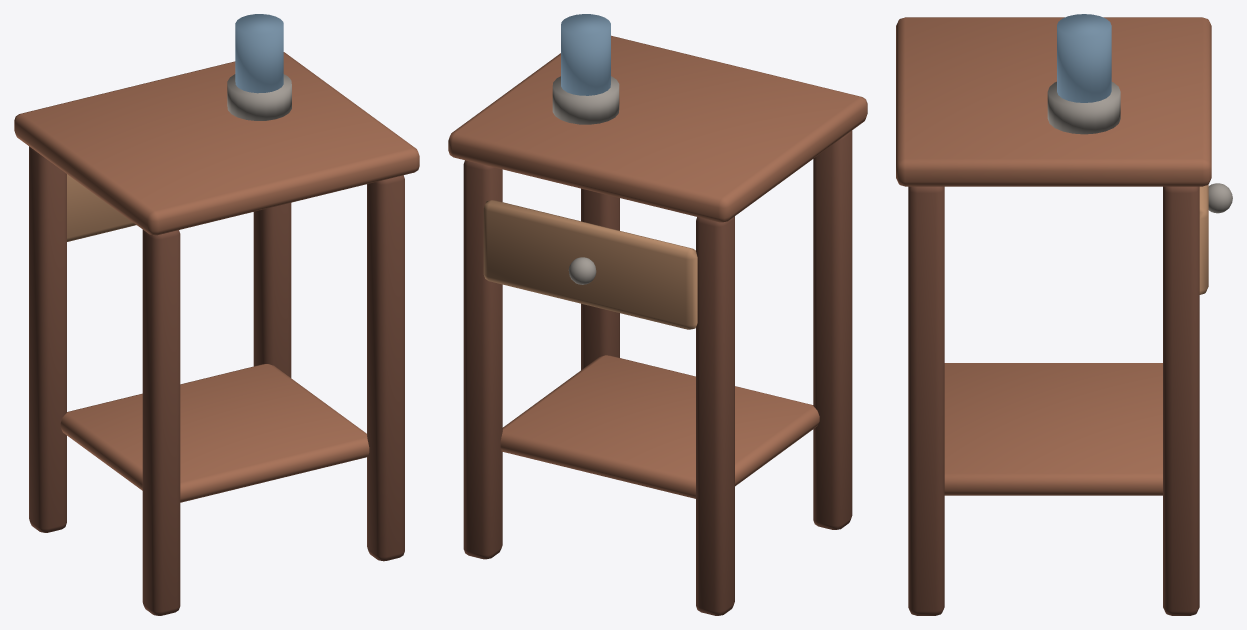
Rendered from bedside-table.glb.
3 renders of one model, left to right at view 1: azimuth 30°, elevation 25°; view 2: azimuth 150°, elevation 25°; view 3: azimuth 270°, elevation 25°, orthographic. The views are drawn at different scales.
Parts seen in each view (by area): view 1: merged_wood, merged_wood_dark, lamp-glass, drawer, merged_metal_light; view 2: merged_wood, merged_wood_dark, drawer, lamp-glass, merged_metal_light; view 3: merged_wood, merged_wood_dark, lamp-glass, merged_metal_light, drawer.
Boxes of the visible parts, box(x1,y1,x2,y2) form: merged_wood: box(14, 52, 419, 502); merged_wood_dark: box(29, 146, 404, 615); lamp-glass: box(235, 14, 283, 93); drawer: box(67, 174, 136, 241); merged_metal_light: box(227, 74, 291, 120); merged_wood: box(448, 35, 867, 498); merged_wood_dark: box(463, 130, 852, 615); drawer: box(483, 200, 697, 329); lamp-glass: box(561, 14, 610, 95); merged_metal_light: box(552, 76, 619, 284); merged_wood: box(896, 17, 1211, 495); merged_wood_dark: box(908, 186, 1199, 615); lamp-glass: box(1057, 14, 1111, 102); merged_metal_light: box(1047, 81, 1232, 213); drawer: box(1199, 184, 1208, 294).
Bounding box in the file's own units: 0.58 × 1.01 × 0.555.
